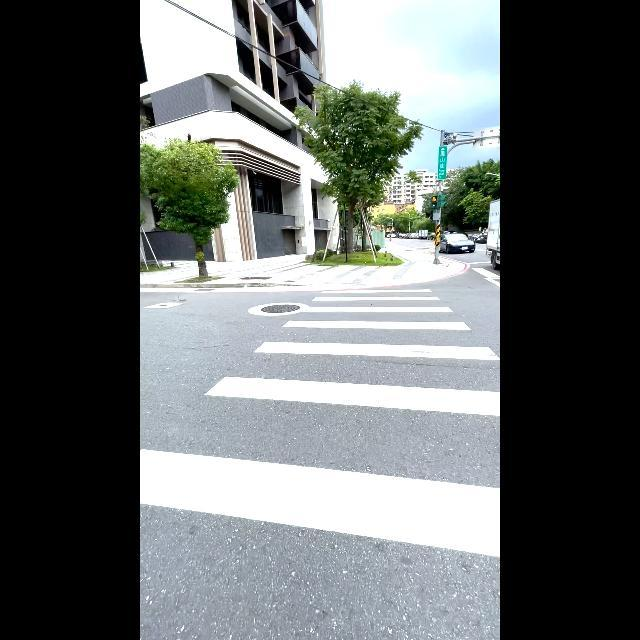sidewalk: (140, 289, 500, 557)
